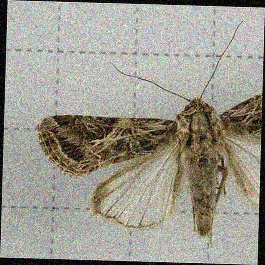Spodoptera litura: (34, 17, 262, 246)
